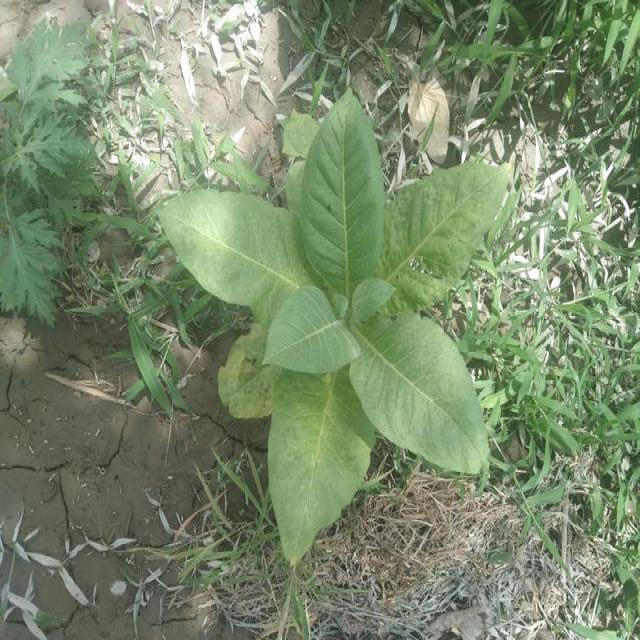crop: (154, 90, 514, 568)
